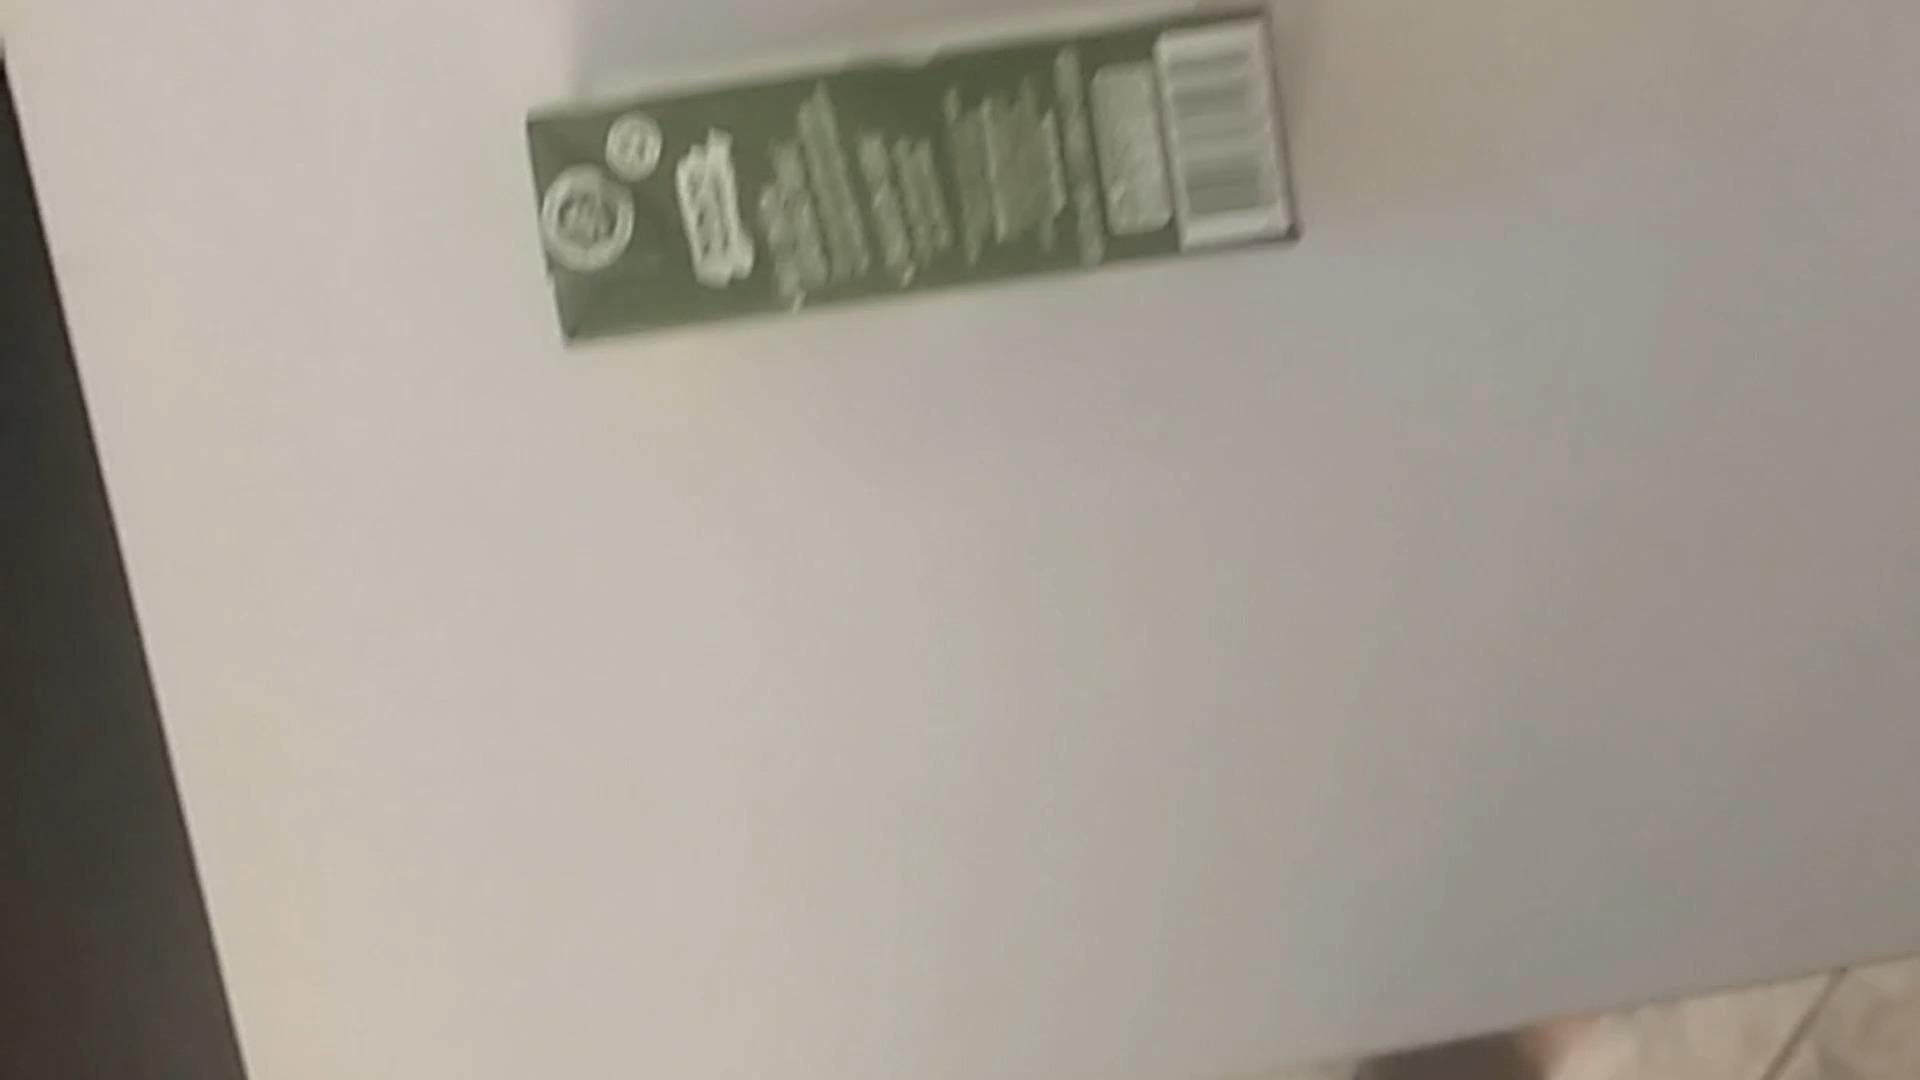coco: (522, 11, 1305, 352)
